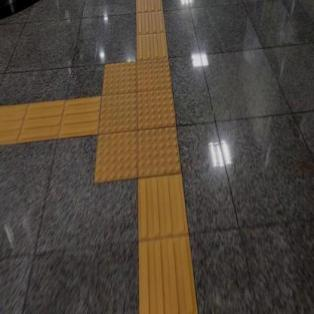Podoctatil: (84, 45, 193, 204), (138, 178, 198, 314), (0, 94, 97, 144), (133, 0, 169, 60)
